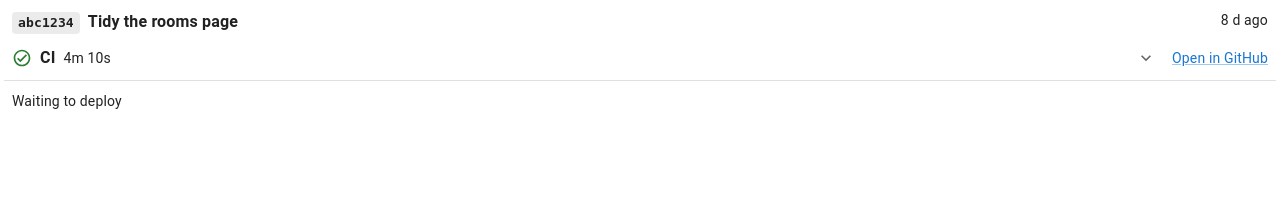
CommitCard › a green run is collapsed and expands on click
The image size is (1280, 212).
Expected: the text "pnpm test" is not shown
What coordinates should you click on to do the following:
click the button "CI 4m 10s"
I would click on:
 (87, 58)
Its box is [4,40,1164,76].
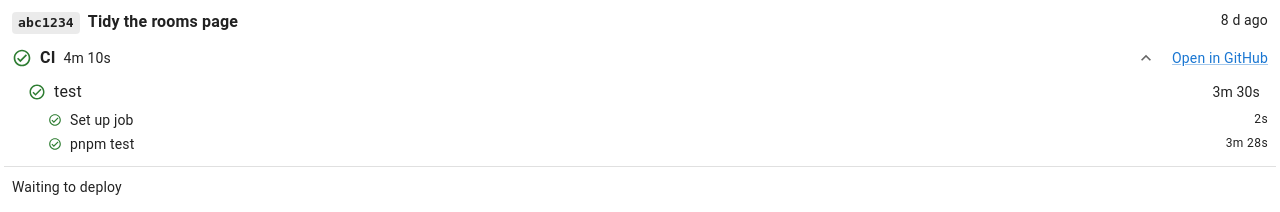
Result: the button "CI 4m 10s" is expanded at [4,40,1164,76]
Result: the text "pnpm test" is shown at [70,136,134,152]
